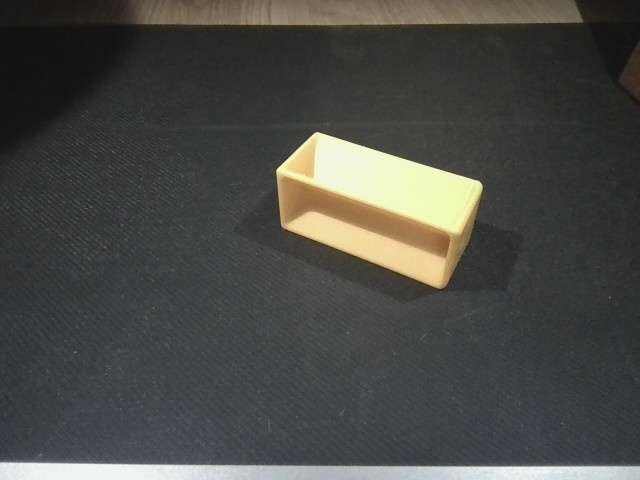YellowSample: (270, 127, 487, 297)
